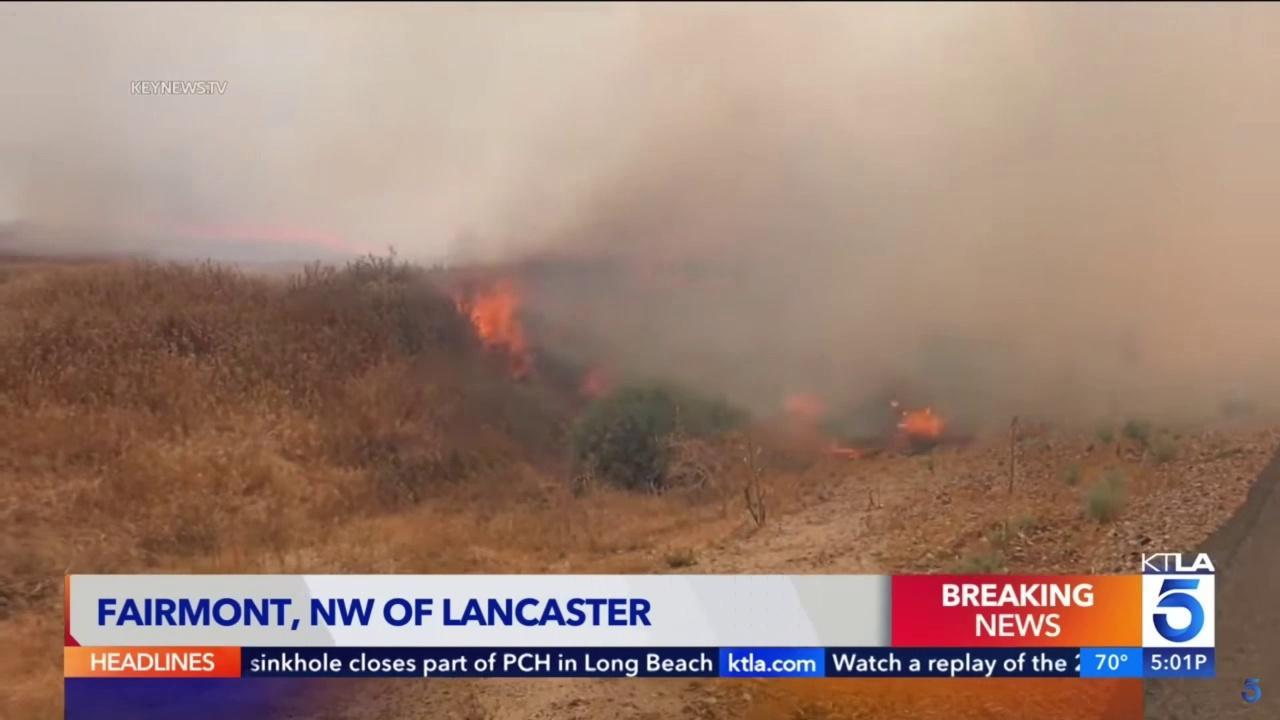fire: (432, 264, 547, 382), (753, 393, 866, 464), (156, 224, 379, 257), (887, 398, 949, 445), (573, 362, 612, 404)
smoke: (0, 0, 1280, 451)
